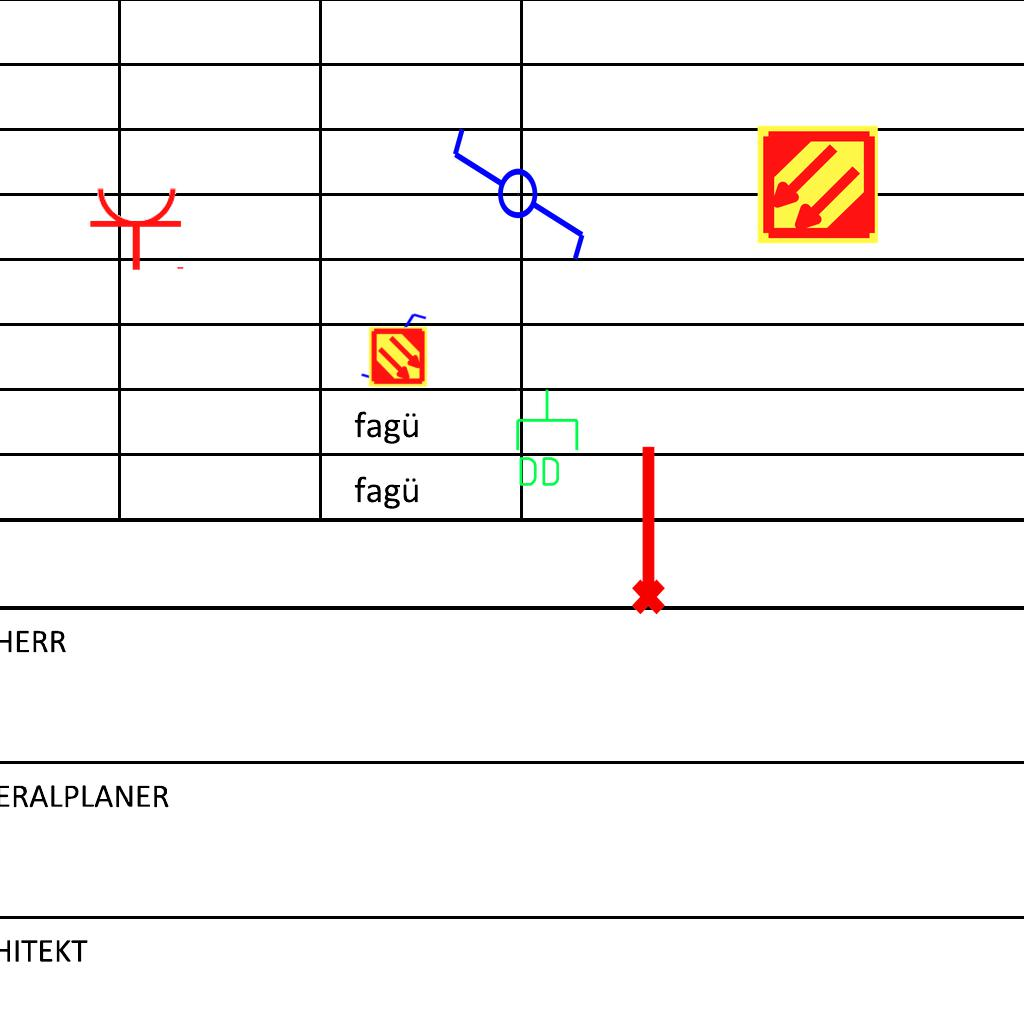ASR_Ansaugoeffnung: (623, 441, 669, 617)
ASR_Ansaugrauchmelder: (755, 122, 880, 247), (367, 326, 429, 388)
Datenanschluss_zweifach: (512, 387, 581, 490)
Schukosteckdose_einfach: (88, 185, 188, 272)
Wechselschalter: (448, 107, 592, 264), (359, 311, 437, 383)
